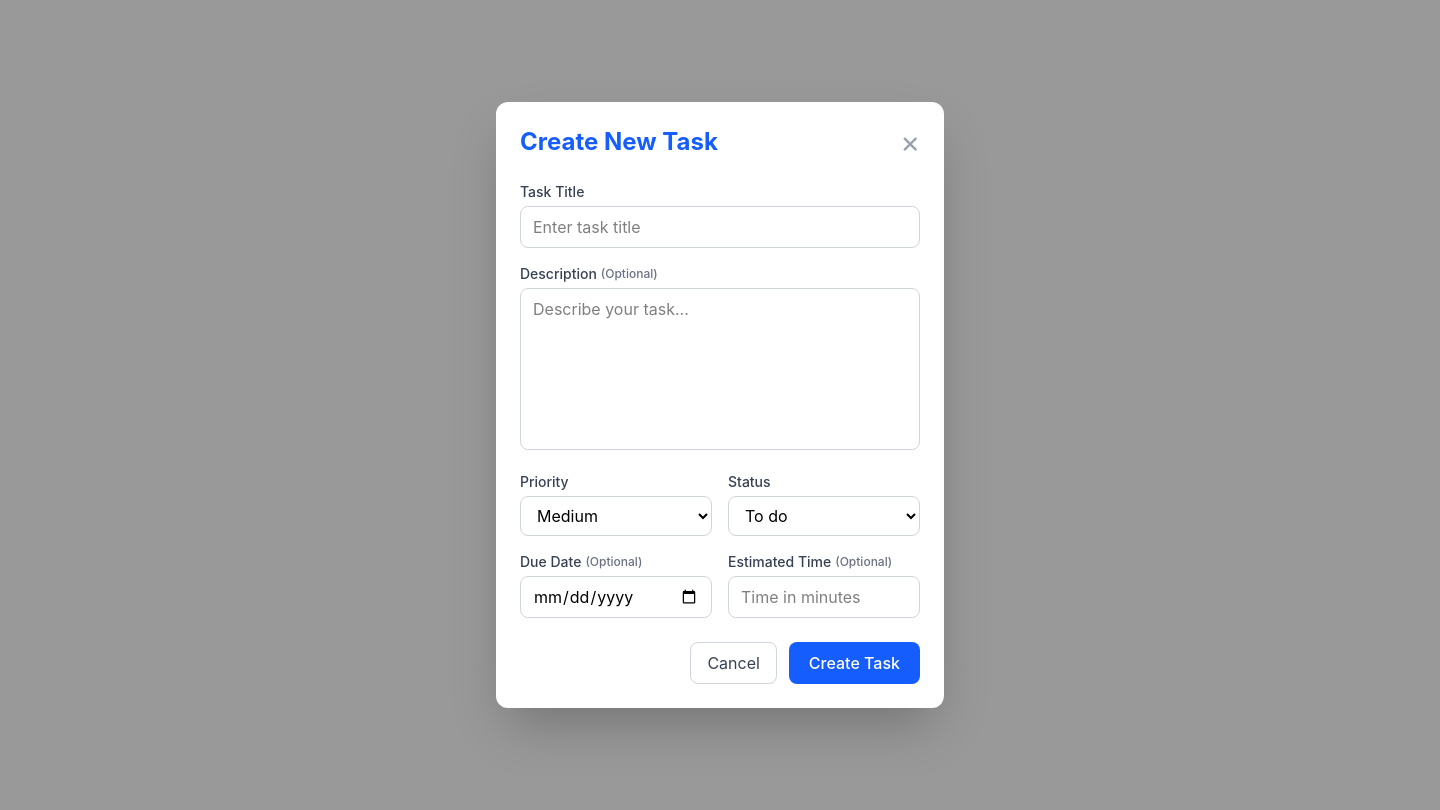
Test case: ManageTaskCard › form validation › shows an error and does not submit when title is empty
Step 1. Click the button "Create Task" → coordinates (854, 663), box [789, 642, 920, 684]
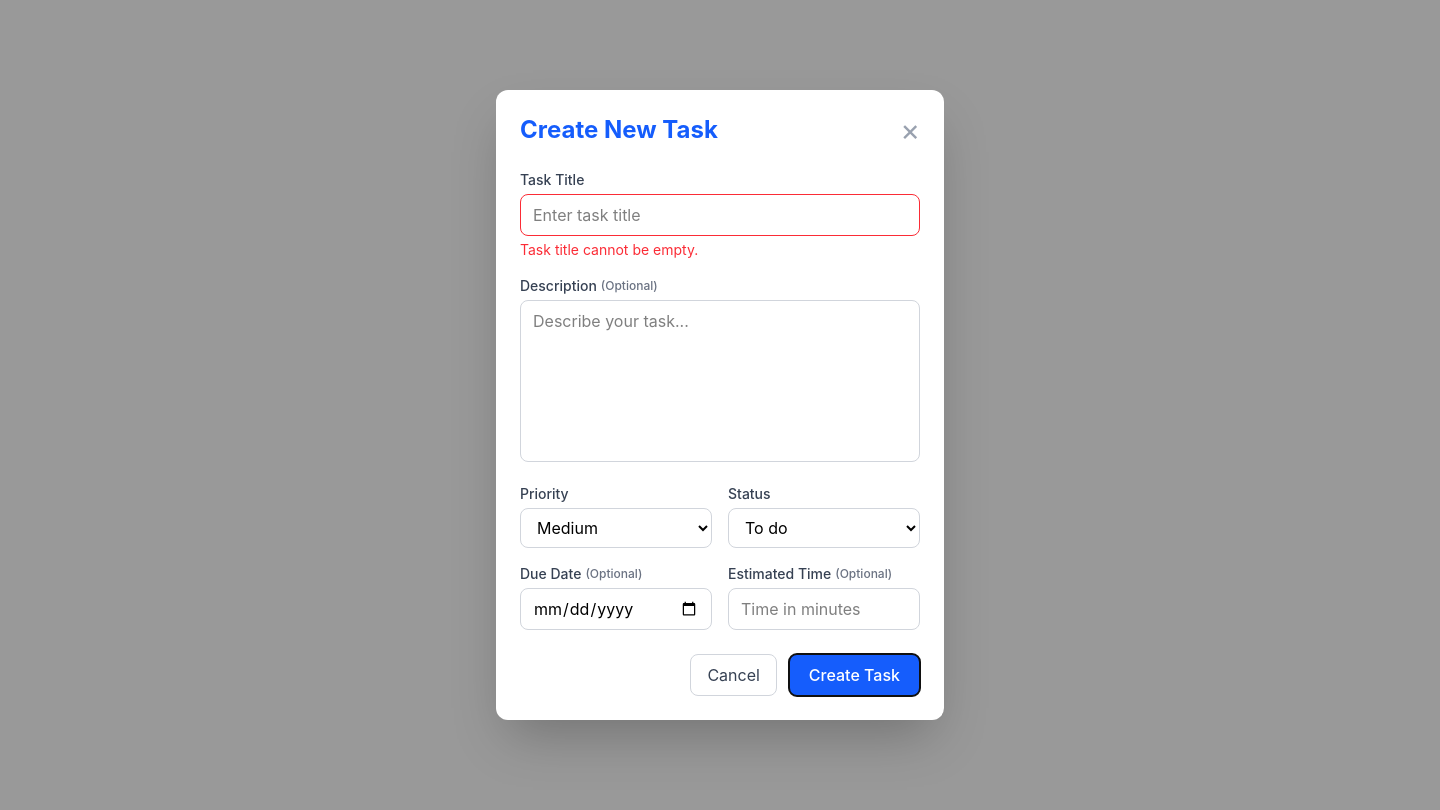
Result: the text "Task title cannot be empty." is shown at [520, 241, 698, 258]
